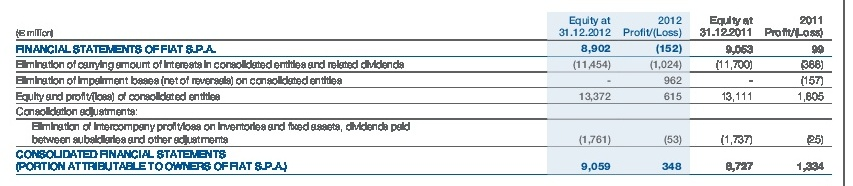table: (0, 0, 853, 186)
